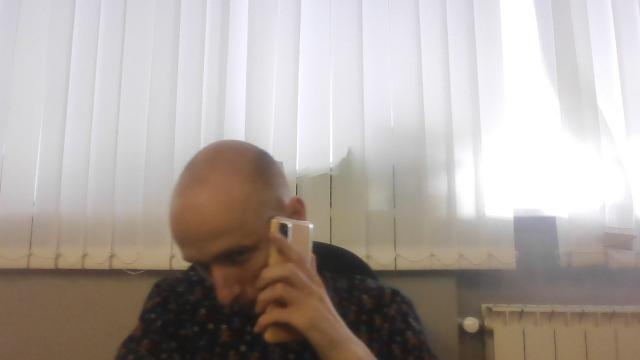Phone: (254, 213, 316, 345)
